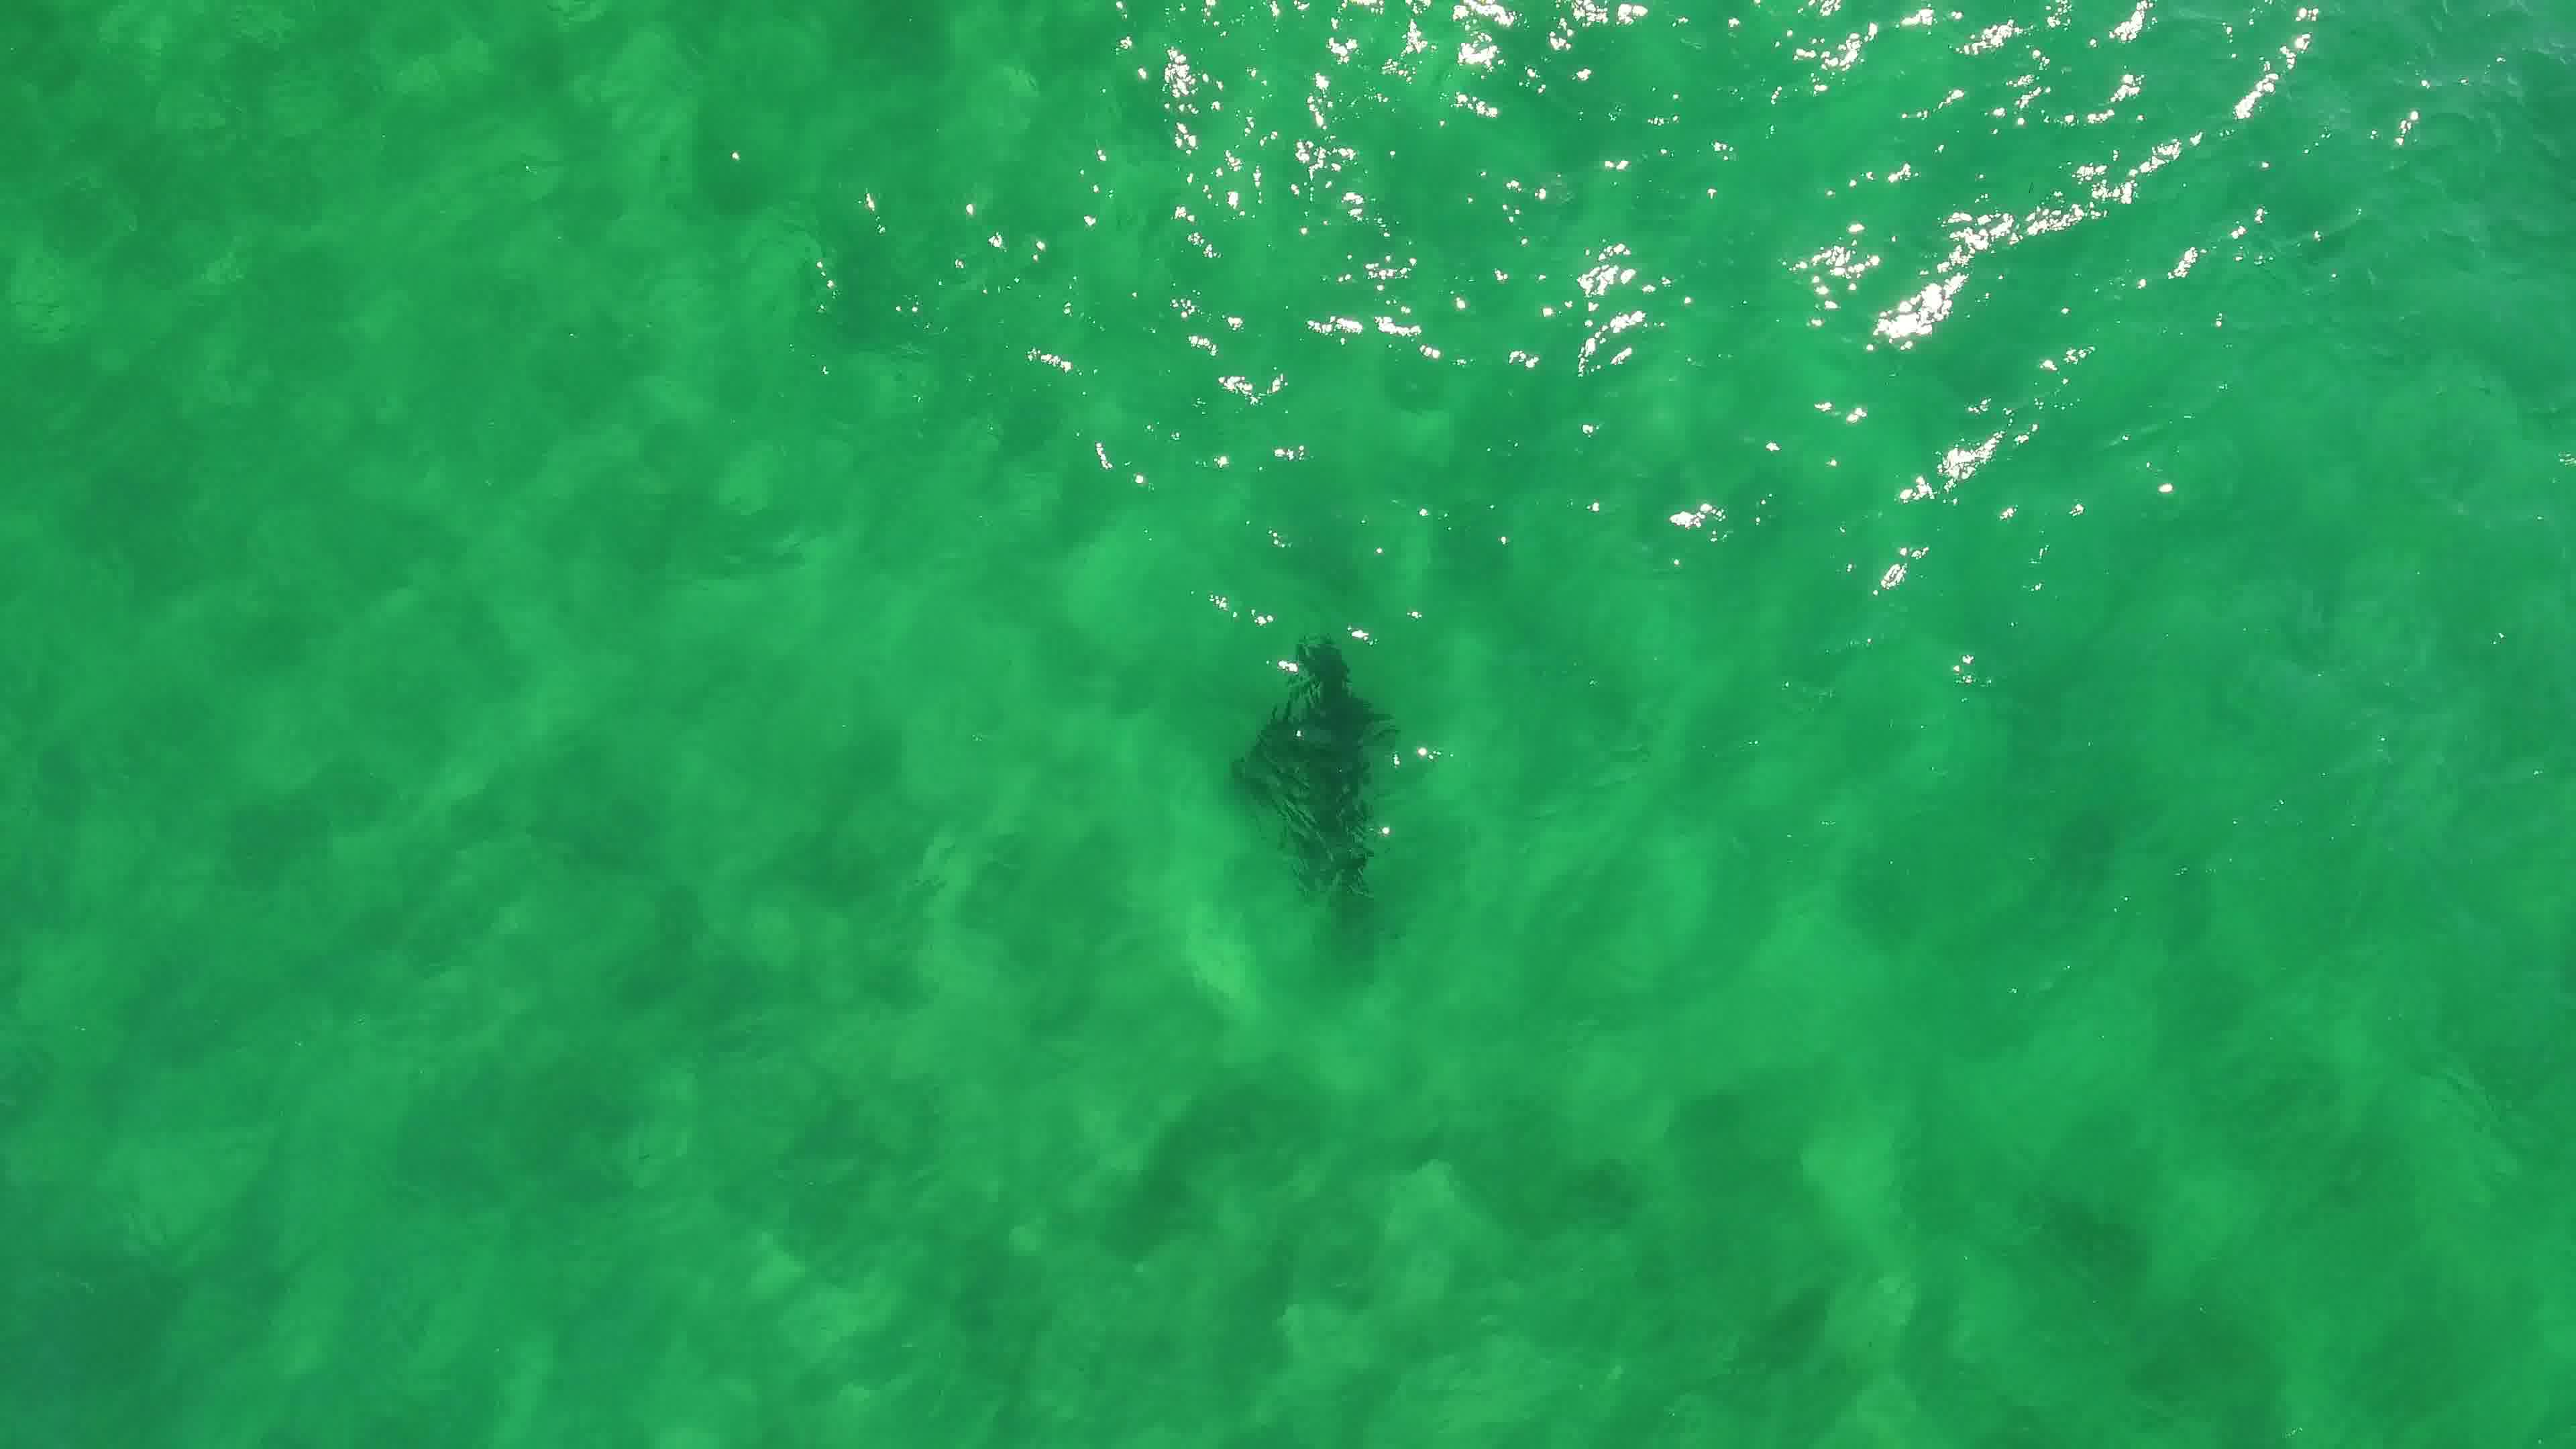shark: (1228, 633, 1405, 902)
